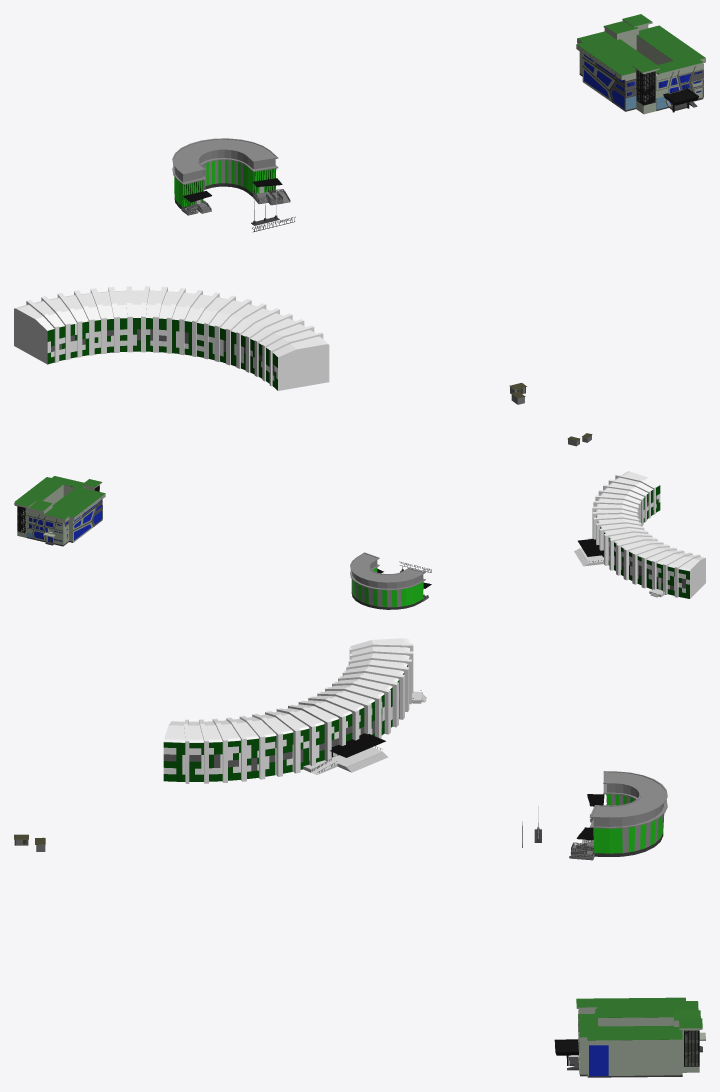
The model's file is CSU6.obj.
3 views of the same model, one above another, from view 1: azimuth 30°, elevation 25°; view 2: azimuth 150°, elevation 25°; view 3: azimuth 270°, elevation 25° (orthographic). The views are drawn at different scales.
Visible parts, largest first — view 1: Cube.472, Cube.473, Cube.304, Cube.284, Admin_roof, Cube.171, Cube.289, Cube.287; view 2: Cube.473, Cube.472, Cube.304, Cube.284, Admin_roof, Cube.171, Cube.477, Plane.021; view 3: Cube.472, Cube.473, Cube.304, Cube.284, Admin_roof, Cube.171.
Part boxes in pixels (left/top/right/bottom): Cube.472: left=14, top=290, right=329, bottom=390; Cube.473: left=26, top=286, right=323, bottom=386; Cube.304: left=576, top=37, right=705, bottom=111; Cube.284: left=576, top=25, right=705, bottom=75; Admin_roof: left=172, top=138, right=278, bottom=184; Cube.171: left=174, top=160, right=276, bottom=209; Cube.289: left=636, top=70, right=655, bottom=105; Cube.287: left=632, top=61, right=659, bottom=114; Cube.473: left=592, top=474, right=700, bottom=597; Cube.472: left=595, top=471, right=705, bottom=598; Cube.304: left=14, top=486, right=105, bottom=546; Cube.284: left=15, top=476, right=105, bottom=519; Admin_roof: left=350, top=552, right=425, bottom=590; Cube.171: left=351, top=567, right=423, bottom=609; Cube.477: left=578, top=539, right=603, bottom=556; Plane.021: left=578, top=539, right=603, bottom=556; Cube.472: left=163, top=638, right=409, bottom=781; Cube.473: left=184, top=642, right=413, bottom=783; Cube.304: left=567, top=1016, right=705, bottom=1077; Cube.284: left=578, top=997, right=698, bottom=1040; Admin_roof: left=589, top=771, right=667, bottom=828; Cube.171: left=593, top=794, right=664, bottom=856.
Size of the model in its own units: 885 by 47.49 by 647.
